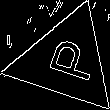P_W: (35, 35, 97, 87)
